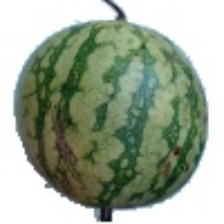watermelon: (45, 33, 192, 210)
